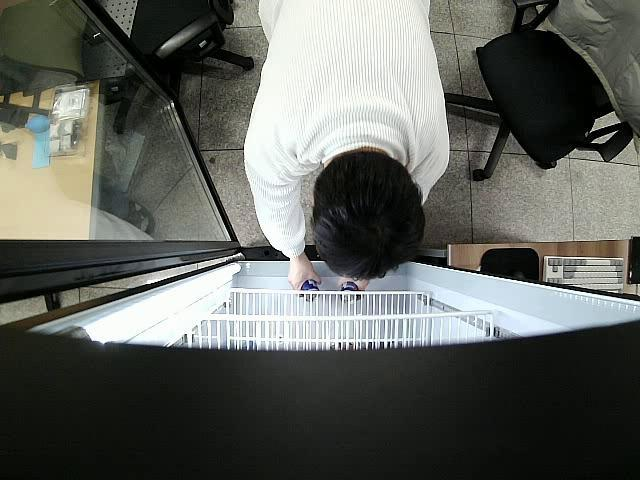16_hot6: (337, 280, 360, 304), (301, 279, 320, 302)
